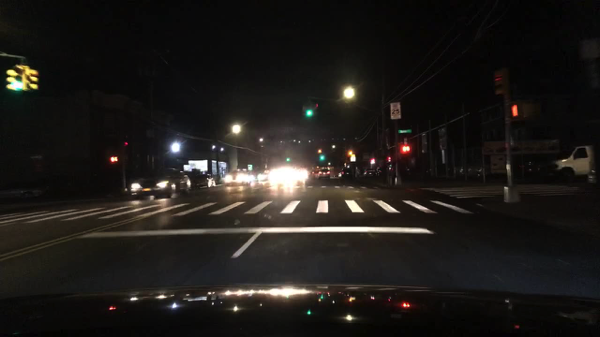car: (127, 169, 173, 201), (0, 178, 49, 200), (165, 170, 191, 193), (267, 168, 293, 184), (223, 169, 245, 186), (189, 176, 215, 188), (337, 167, 352, 181), (243, 169, 256, 185), (316, 167, 330, 181), (255, 171, 270, 183), (294, 169, 310, 178), (361, 169, 375, 179), (310, 171, 321, 181)
traffic light: (509, 103, 535, 120), (492, 68, 504, 96), (26, 69, 40, 91), (14, 65, 24, 90), (5, 67, 13, 90), (305, 99, 312, 118), (312, 100, 319, 118), (110, 155, 119, 165), (400, 144, 409, 154), (319, 150, 325, 162), (122, 138, 128, 147), (286, 152, 290, 163)
traffic sign: (390, 103, 399, 120), (31, 162, 44, 171), (397, 128, 413, 135), (29, 155, 44, 160), (351, 154, 357, 162)
truck: (548, 144, 595, 183)
